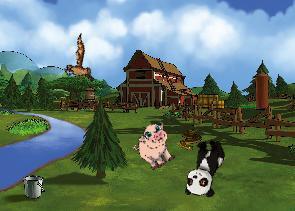eagle: (51, 33, 107, 92)
panda: (182, 135, 227, 200)
pig: (128, 119, 182, 174)
